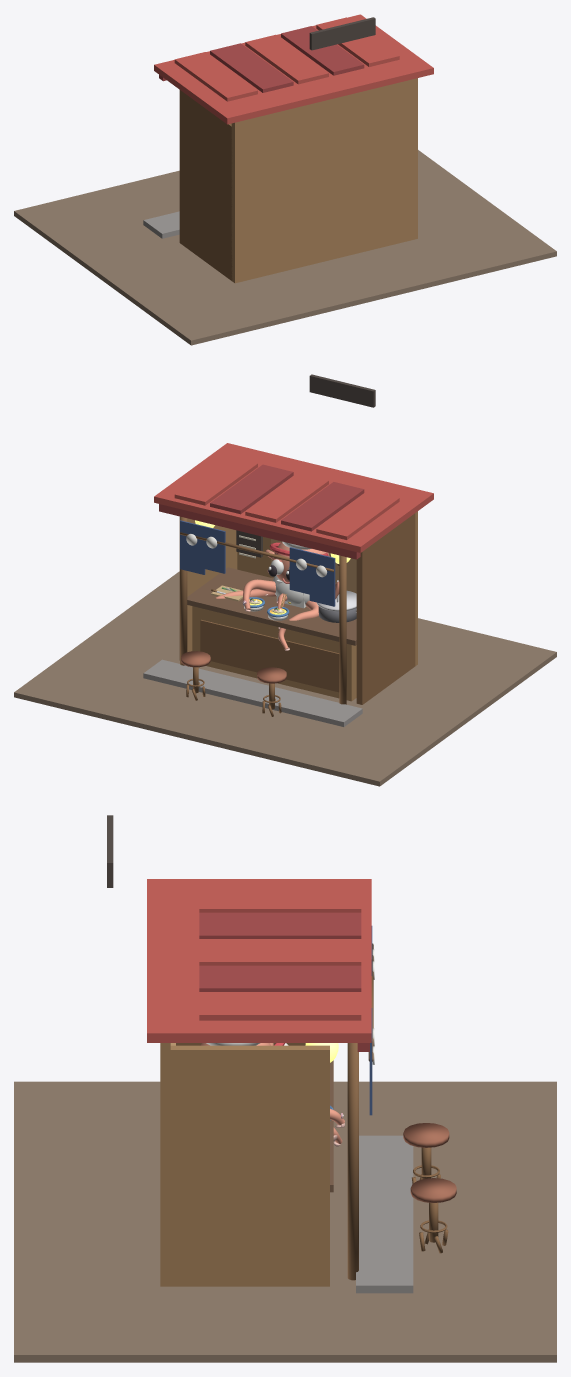
File: octopus-chef-ramen-booth.glb
The picture shows the model from 3 angles, top to bottom: view 1: azimuth 30°, elevation 25°; view 2: azimuth 150°, elevation 25°; view 3: azimuth 270°, elevation 25°; orthographic projection. The views are drawn at different scales.
Visible parts, largest first — view 1: Floor, BackWall, SideL, Roof, Tile1, Tile2, Tile0, Tile3, Tile4, SignBack, Step; view 2: Floor, SideL, Roof, CounterFront, Step, CounterTop, CounterBody, Tile1, Tile2, Tile0, Tile3, Tile4 (+11 smaller); view 3: Floor, SideR, Roof, Step, Tile4, Tile0, Tile2, Tile1, Tile3, Post1.35, BackWall, StoolRseat (+1 smaller).
Part boxes in pixels (x1,y1,x2,y2): Floor: [14, 150, 556, 345]; BackWall: [231, 78, 417, 283]; SideL: [179, 90, 232, 280]; Roof: [154, 14, 433, 124]; Tile1: [210, 43, 293, 92]; Tile2: [245, 34, 328, 84]; Tile0: [174, 52, 257, 101]; Tile3: [281, 26, 364, 75]; Tile4: [316, 17, 399, 66]; SignBack: [309, 17, 375, 50]; Step: [143, 211, 179, 238]; Floor: [14, 571, 556, 786]; SideL: [356, 513, 415, 704]; Roof: [154, 443, 433, 552]; CounterFront: [200, 619, 339, 692]; Step: [143, 659, 362, 726]; CounterTop: [187, 567, 356, 645]; CounterBody: [192, 606, 356, 701]; Tile1: [281, 482, 364, 531]; Tile2: [245, 473, 328, 522]; Tile0: [316, 490, 399, 539]; Tile3: [210, 464, 293, 514]; Tile4: [174, 456, 257, 505]; Floor: [14, 1081, 556, 1362]; SideR: [168, 1045, 329, 1286]; Roof: [147, 879, 371, 1042]; Step: [356, 1135, 413, 1293]; Tile4: [199, 992, 361, 1020]; Tile0: [199, 886, 361, 912]; Tile2: [199, 939, 361, 965]; Tile1: [199, 912, 361, 938]; Tile3: [199, 965, 361, 991]; Post1.35: [347, 1043, 358, 1280]; BackWall: [160, 1043, 170, 1286]; StoolRseat: [410, 1178, 456, 1202].
Bounding box in the file's own units: 6.2 × 4.09 × 5.2.
